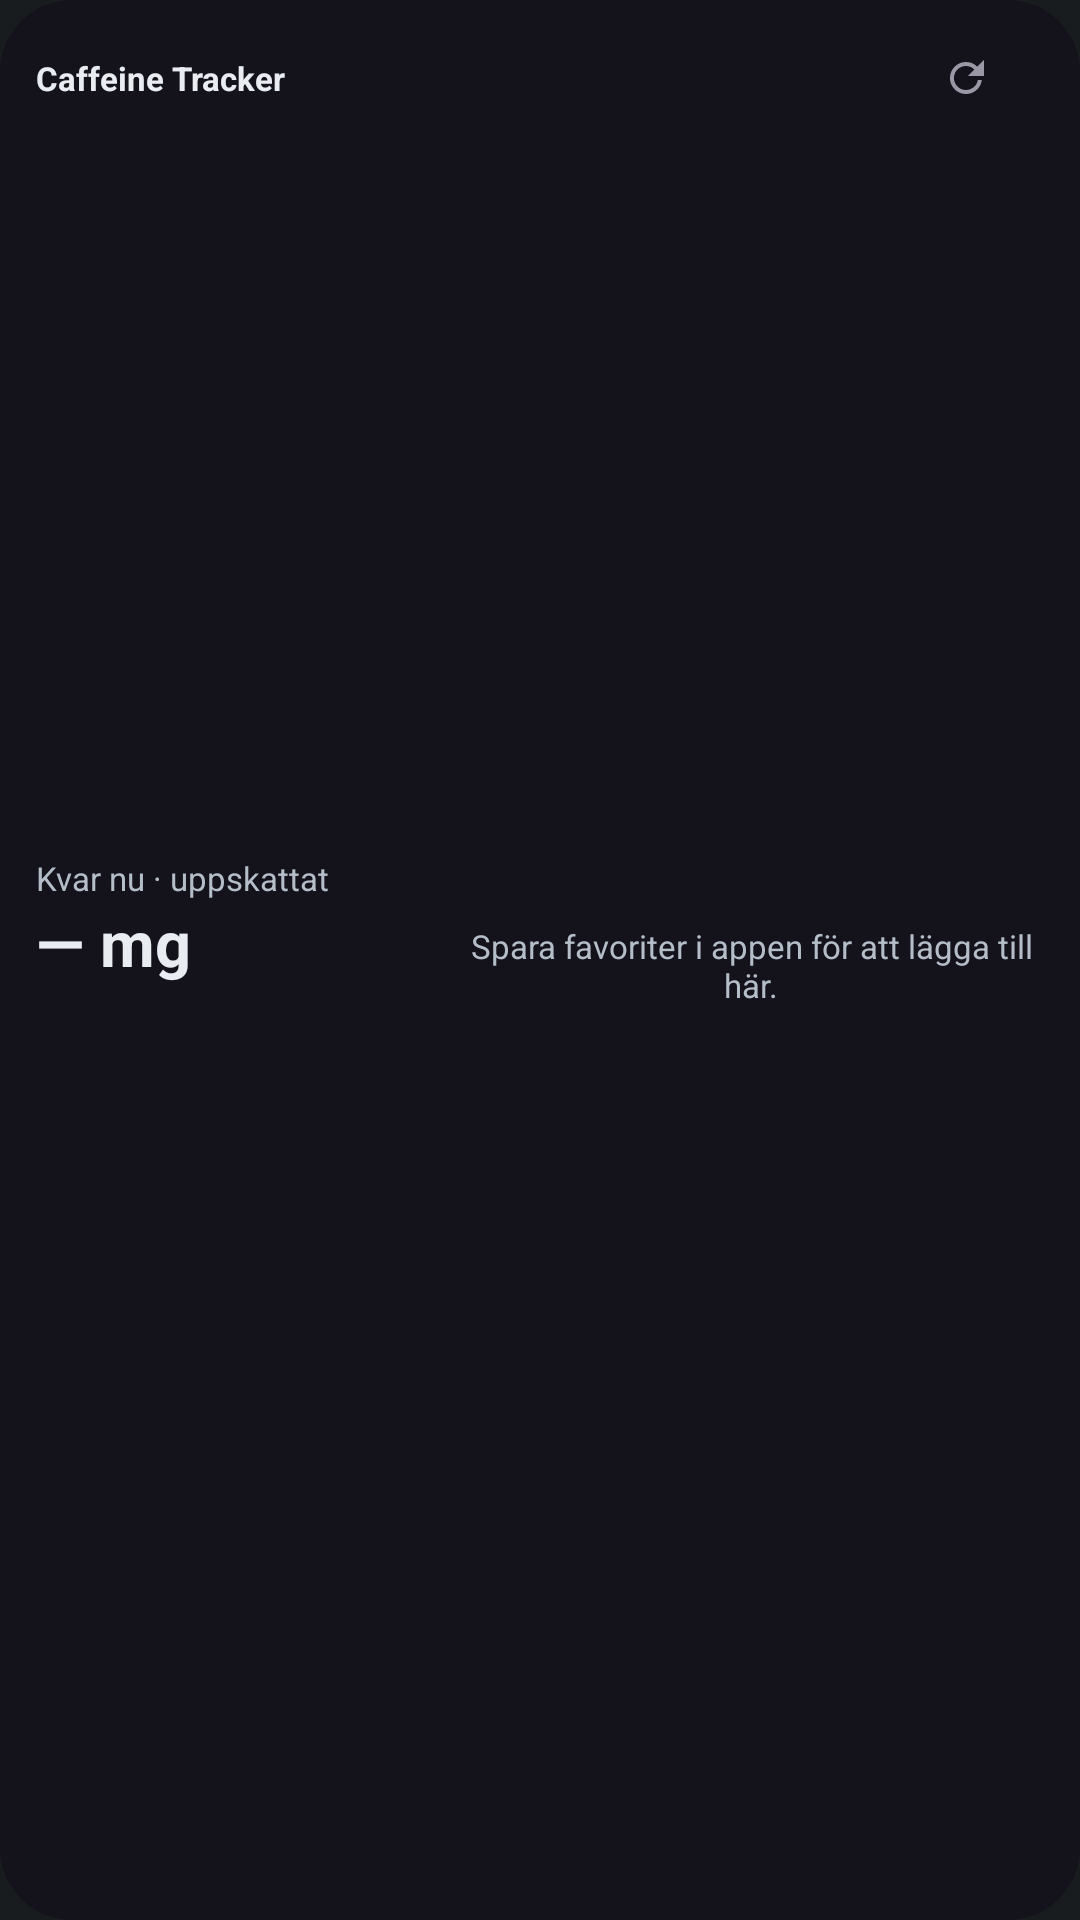

Locate icon controls on the screen. Image size 1080px x 1920px, boxes as detection(x1, y1, x2, y2).
widget refresh: detection(950, 60, 984, 94)
